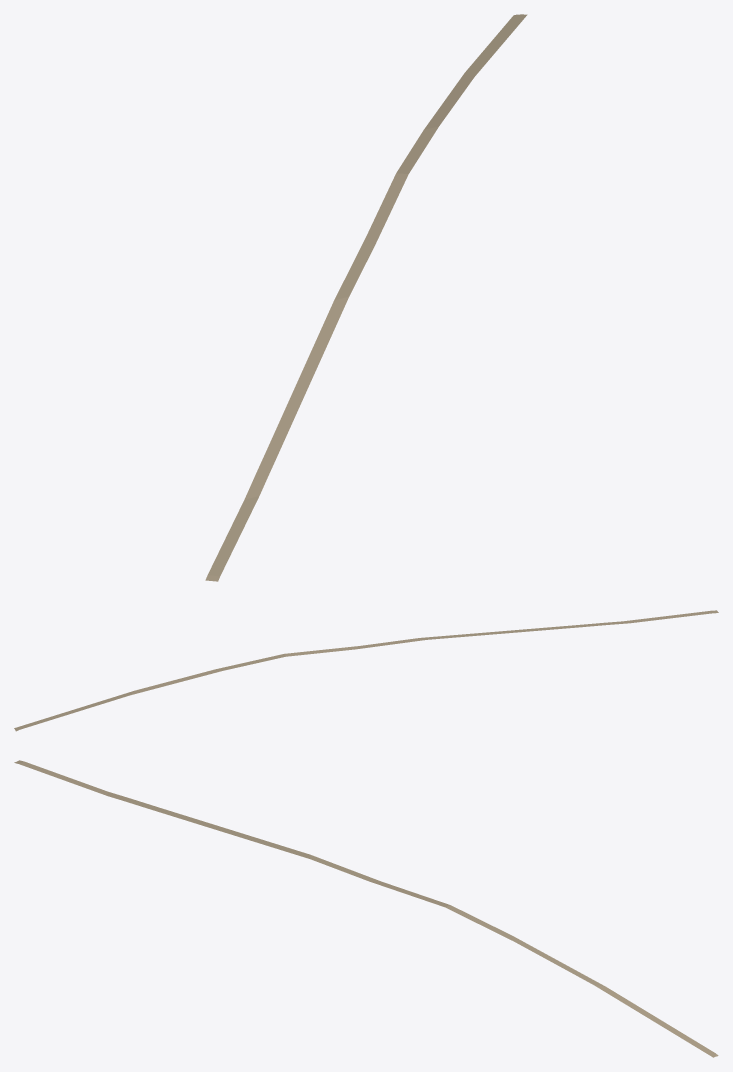
File: farm_-7_6_track.glb
The picture shows the model from 3 angles, top to bottom: view 1: azimuth 30°, elevation 25°; view 2: azimuth 150°, elevation 25°; view 3: azimuth 270°, elevation 25°; orthographic projection. The views are drawn at different scales.
Parts seen in each view (by area): view 1: geometry_0; view 2: geometry_0; view 3: geometry_0.
Part boxes in pixels (<box>): geometry_0: <box>205,14,527,581</box>; geometry_0: <box>14,610,718,731</box>; geometry_0: <box>14,760,718,1057</box>.
Size of the model in its own units: 252 by 21.22 by 278.
